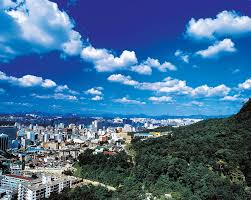mountain: (108, 101, 249, 200)
sky: (2, 1, 242, 110)
vilage: (4, 118, 177, 194)
